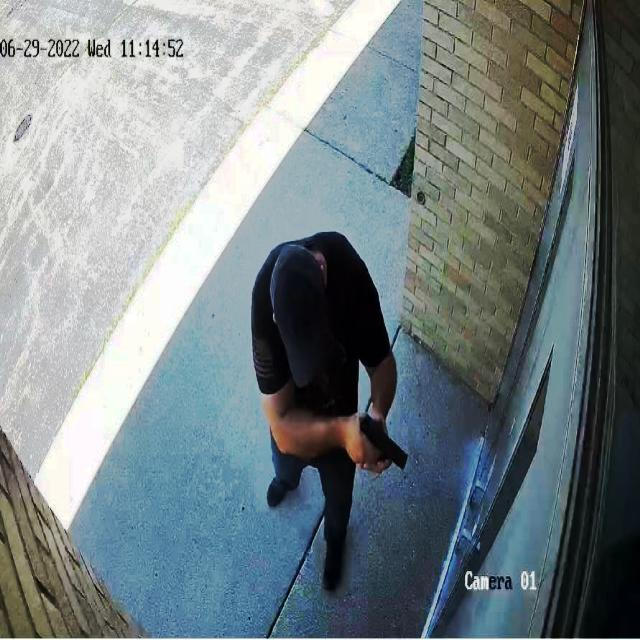Gun: (345, 403, 415, 475)
